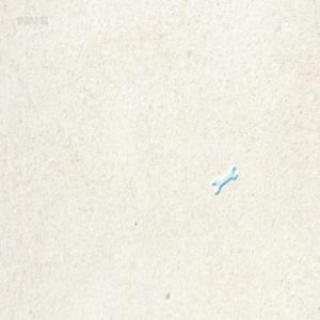Wrenchtrack_idkeyframe: (211, 164, 237, 193)
